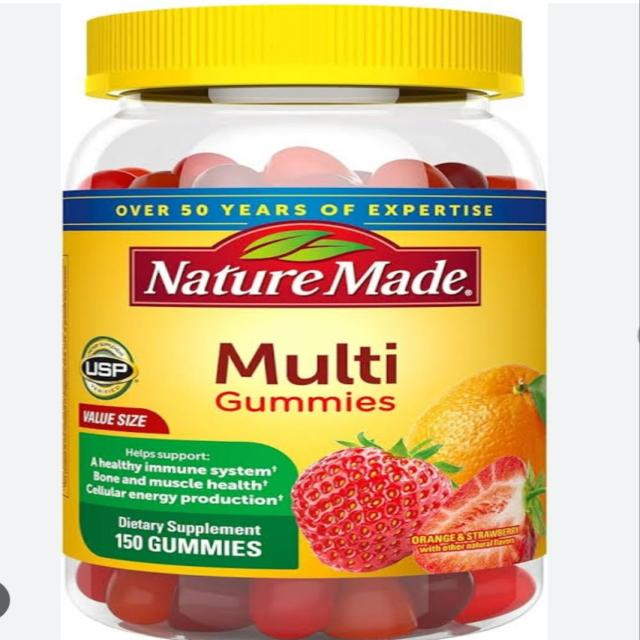food-supliment: (55, 120, 548, 618)
